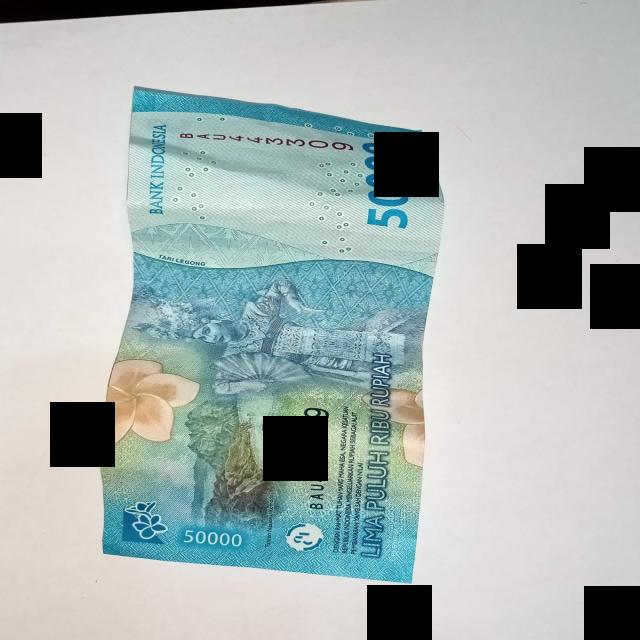lima puluh ribu rupiah: (100, 88, 443, 582)
